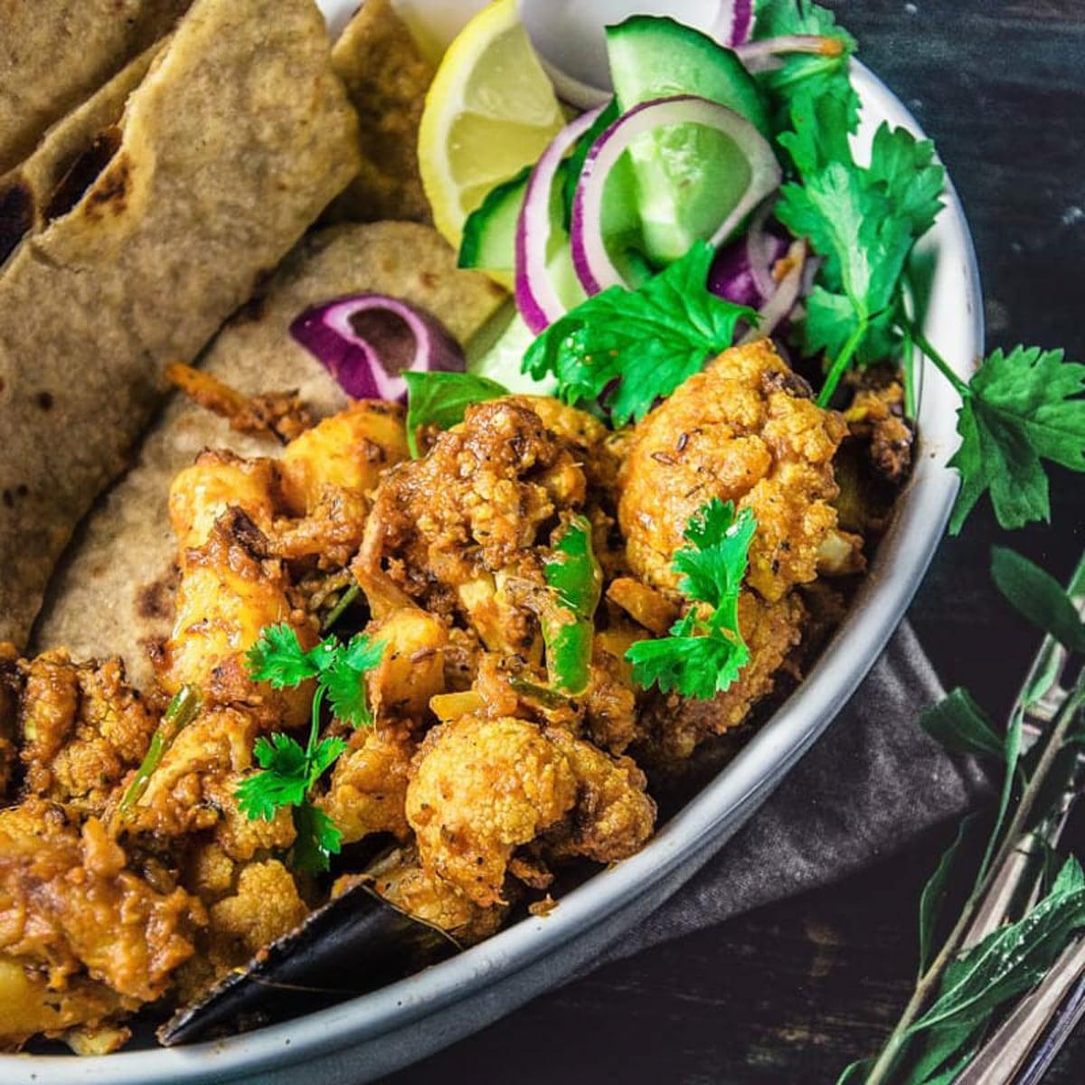aloo gobhi: (1, 405, 790, 989)
bhakri: (0, 0, 287, 531)
salad: (387, 0, 850, 368)
